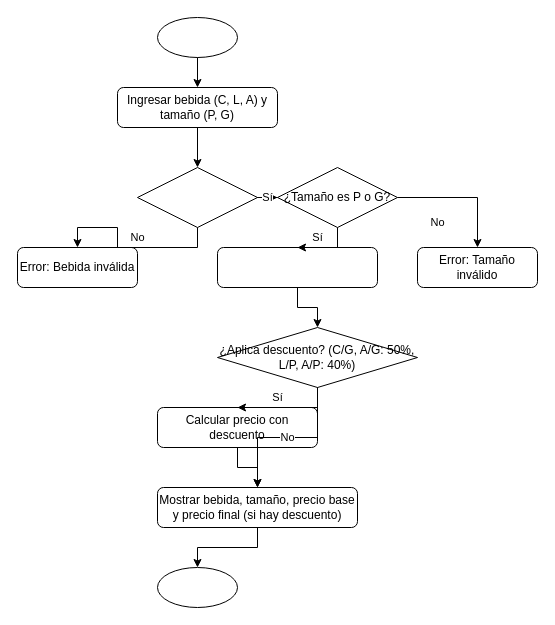
Image size: 555x625. Some labels were removed from this diagram. Each missing label, with the centre of its shape:
"Establecer precio base según bebida y tamaño" goes at pixel 297 267.
"Fin" goes at pixel 197 587.
"Inicio" goes at pixel 197 37.
"¿Bebida es C, L o A?" goes at pixel 197 197.
